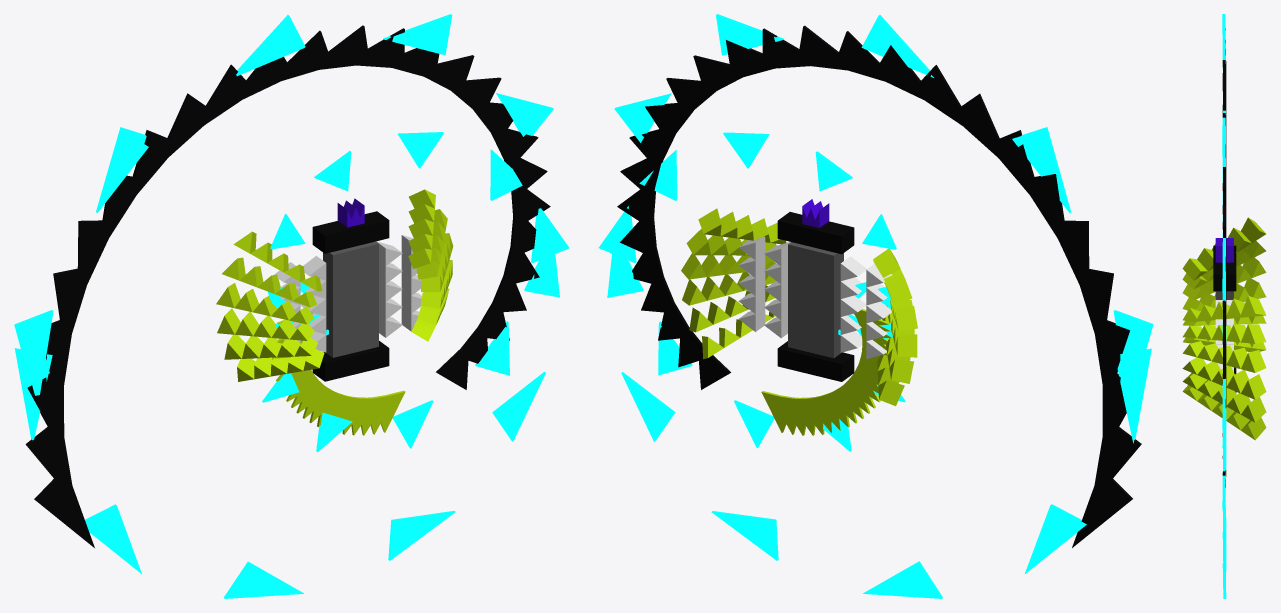
File: Камень_знаний.fbx
3 renders of one model, left to right at view 1: azimuth 30°, elevation 25°; view 2: azimuth 150°, elevation 25°; view 3: azimuth 270°, elevation 25°, orthographic. The views are drawn at different scales.
Parts seen in each view (by area): view 1: Cube.004, Cube.006, Cube.007, Cube, Cube.008, Cube.003, Cube.001, Cube.002; view 2: Cube.004, Cube.006, Cube.007, Cube.008, Cube, Cube.003, Cube.001, Cube.002; view 3: Cube.007, Cube.006, Cube.004, Cube.001, Cube.005, Cube.008, Cube.
Part boxes in pixels (bbox=[...]): Cube.004: bbox=[25, 25, 550, 547]; Cube.006: bbox=[14, 14, 569, 598]; Cube.007: bbox=[216, 189, 453, 381]; Cube: bbox=[323, 241, 378, 357]; Cube.008: bbox=[274, 235, 421, 352]; Cube.003: bbox=[271, 312, 405, 435]; Cube.001: bbox=[312, 211, 389, 253]; Cube.002: bbox=[312, 341, 389, 381]; Cube.004: bbox=[617, 25, 1141, 547]; Cube.006: bbox=[598, 14, 1153, 598]; Cube.007: bbox=[681, 208, 917, 406]; Cube.008: bbox=[738, 236, 892, 358]; Cube: bbox=[788, 242, 843, 358]; Cube.003: bbox=[761, 309, 892, 435]; Cube.001: bbox=[777, 212, 854, 254]; Cube.002: bbox=[777, 341, 854, 381]; Cube.007: bbox=[1182, 217, 1266, 440]; Cube.006: bbox=[1222, 14, 1226, 598]; Cube.004: bbox=[1222, 28, 1226, 487]; Cube.001: bbox=[1213, 245, 1236, 291]; Cube.005: bbox=[1215, 238, 1233, 262]; Cube.008: bbox=[1215, 300, 1233, 386]; Cube: bbox=[1215, 291, 1233, 299].
Bounding box in the file's own units: 6467 × 6493 × 915.
